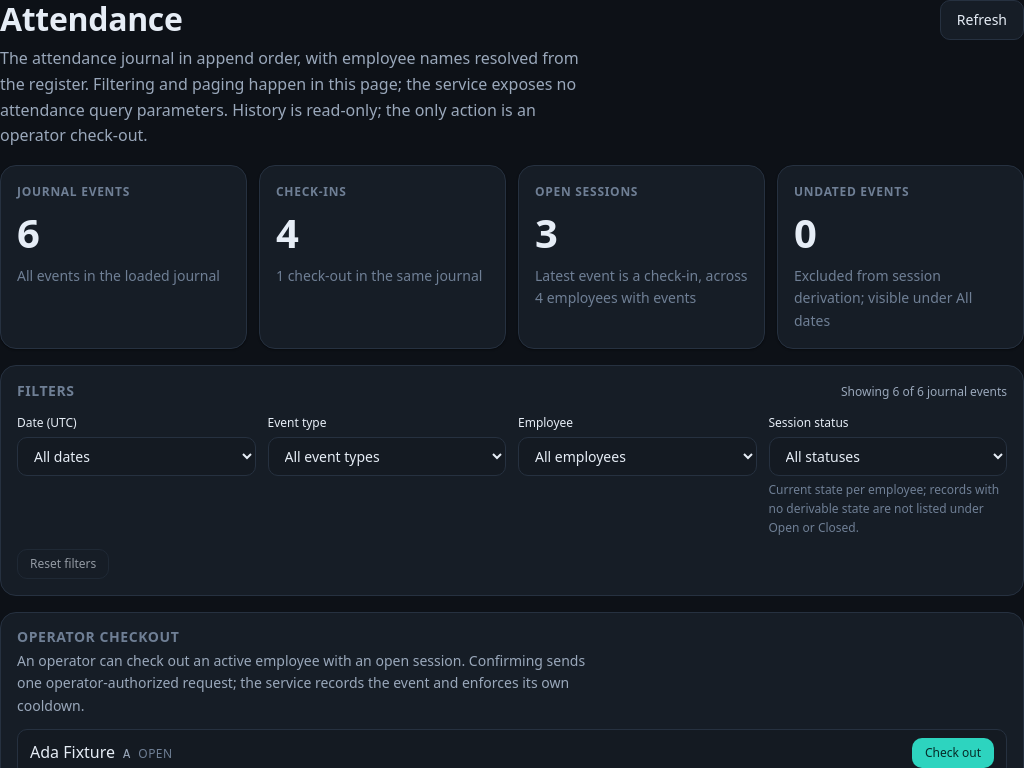
Test: checkout confirmation › opens a dialog that identifies the employee and the operator semantics
Click the button with aria-label "Check out Ada Fixture": point(953, 753) [912, 738, 994, 767]
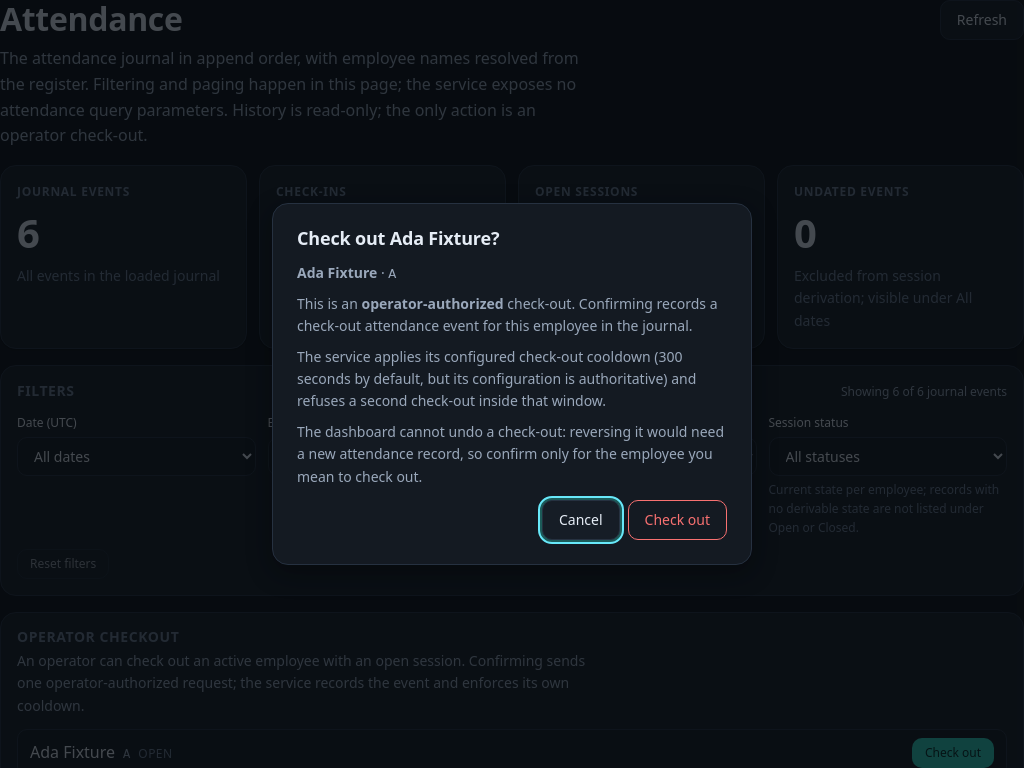
Expected: the text "Ada Fixture" is shown, [297, 263, 377, 282]
Expected: the text "A" is shown, [388, 267, 396, 282]
Expected: the text "operator-authorized" is shown, [362, 294, 504, 313]
